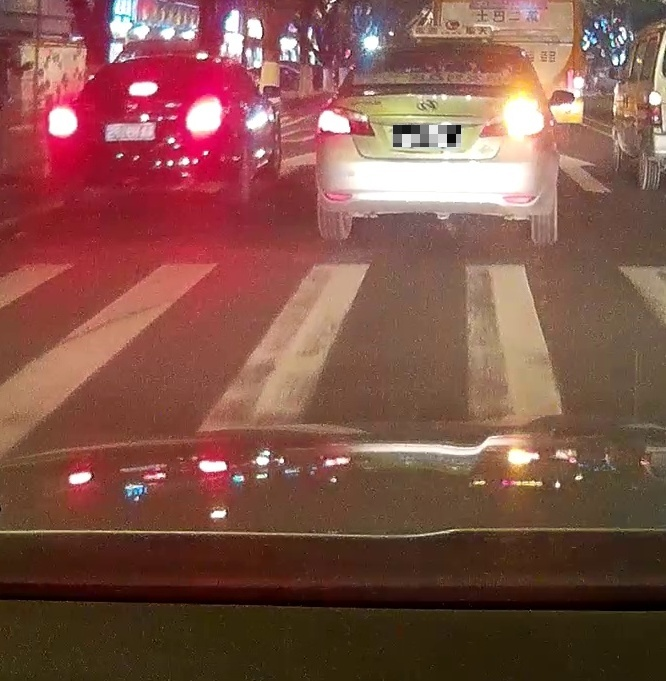L_light: (317, 103, 376, 137), (47, 106, 80, 140)
R_light: (478, 97, 545, 139), (184, 97, 225, 136)
T_light: (127, 80, 158, 97), (430, 49, 452, 55)
night-brake: (47, 53, 235, 218)
night-right: (316, 42, 557, 246)
plate_1: (393, 125, 461, 147)
